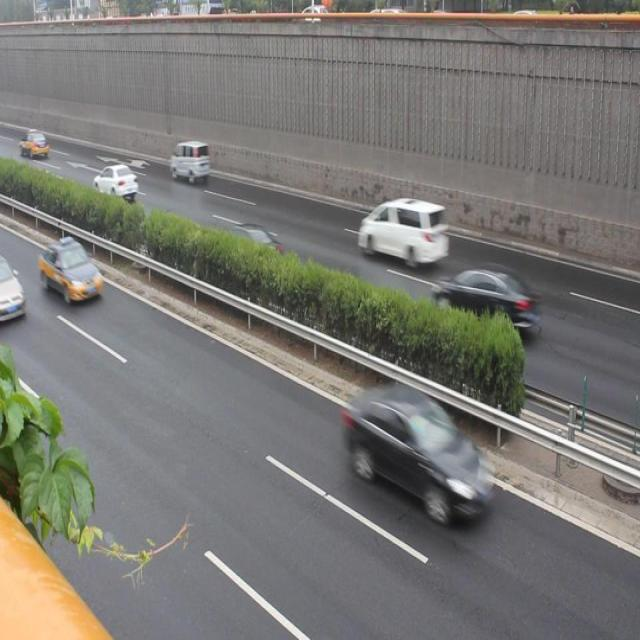car: (342, 384, 499, 524), (433, 260, 538, 337), (38, 236, 106, 312), (224, 218, 280, 270), (94, 161, 140, 203)
truck: (354, 192, 448, 270), (166, 137, 208, 187)
